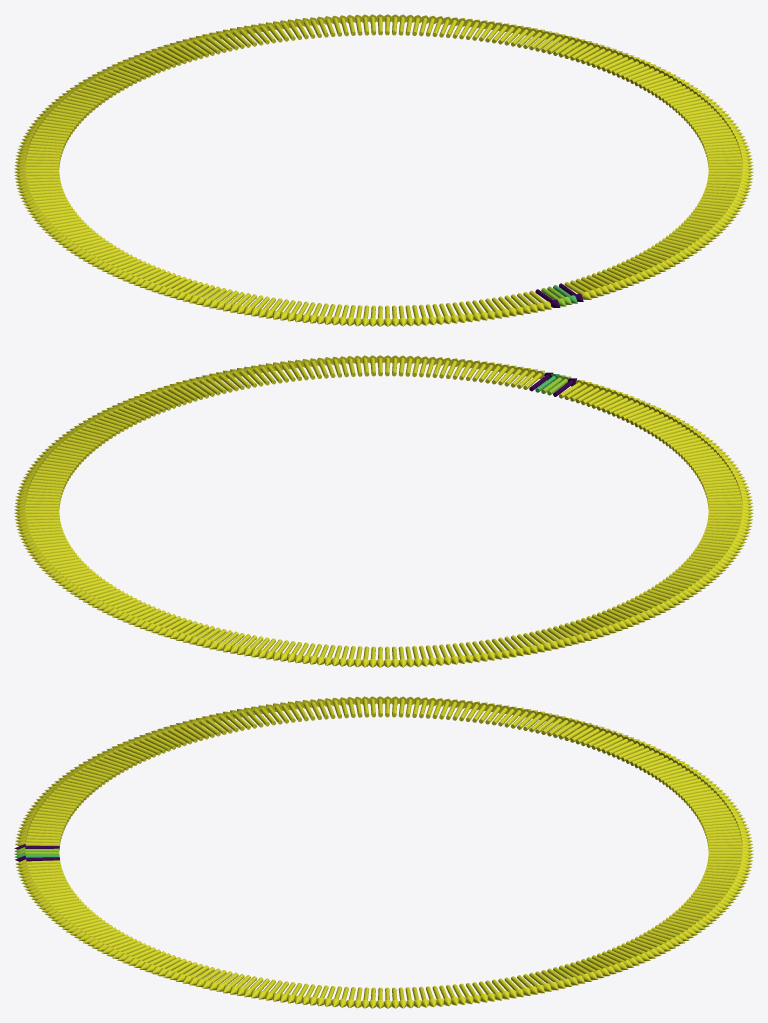
Rendered from coil_5_forces.gltf.
The picture shows the model from 3 angles, top to bottom: view 1: azimuth 30°, elevation 25°; view 2: azimuth 150°, elevation 25°; view 3: azimuth 270°, elevation 25°; orthographic projection.
Visible parts, largest first — view 1: Renderer Node; view 2: Renderer Node; view 3: Renderer Node.
Boxes of the visible parts, left/top/right/bottom form: Renderer Node: left=14, top=14, right=753, bottom=326; Renderer Node: left=14, top=355, right=753, bottom=667; Renderer Node: left=14, top=696, right=753, bottom=1008.
Size of the model in its own units: 0.6839 by 0.0084 by 0.6839.
1 material, 1 textured.
